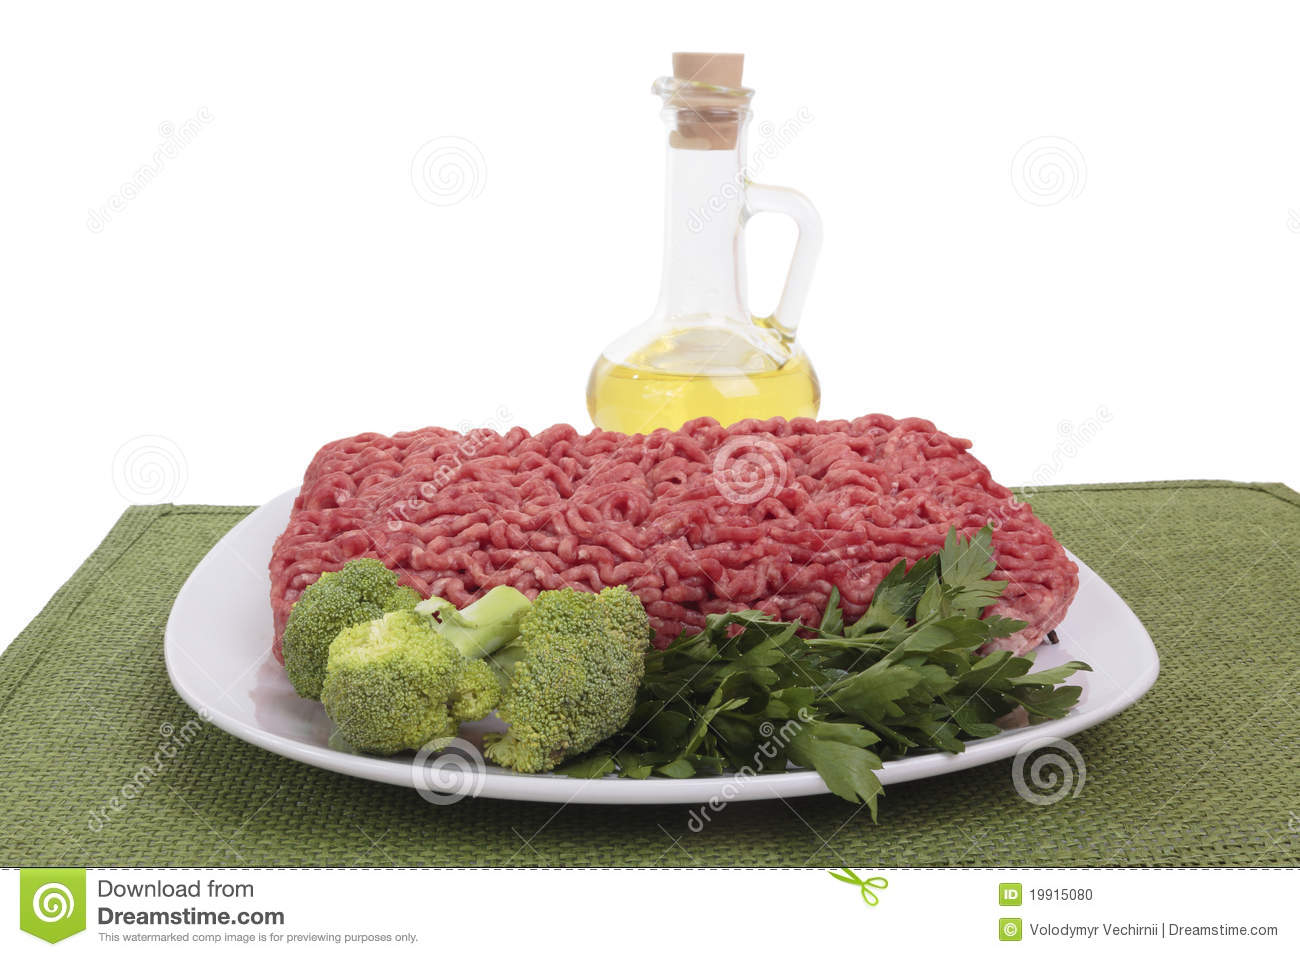ground_beef: (280, 425, 1096, 659)
